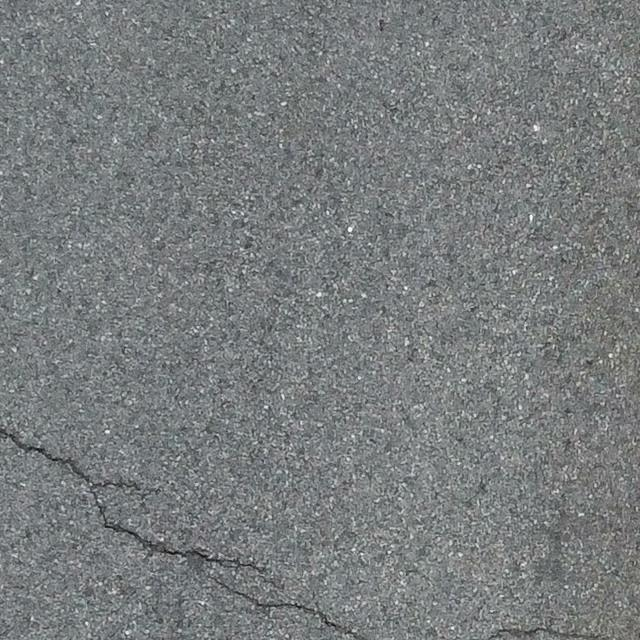TransverseCrack: (1, 429, 367, 638), (484, 618, 600, 640)
